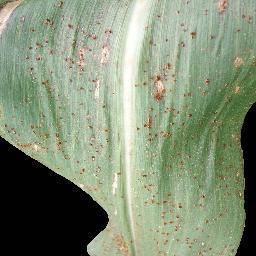Corn_Common_Rust: (136, 0, 256, 254), (0, 0, 117, 160), (69, 160, 130, 255)
